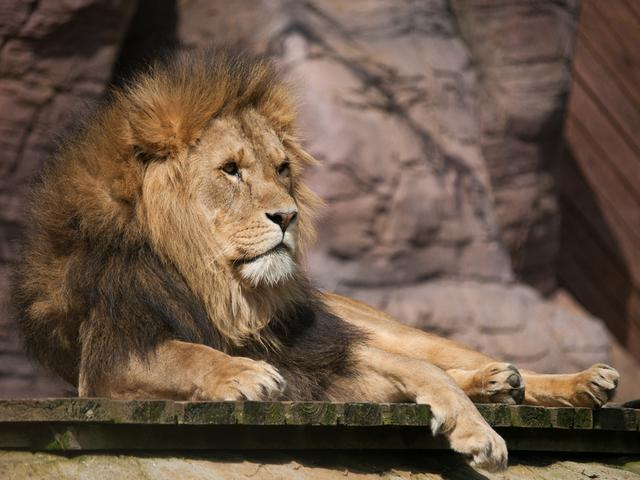lion: (17, 15, 636, 480)
